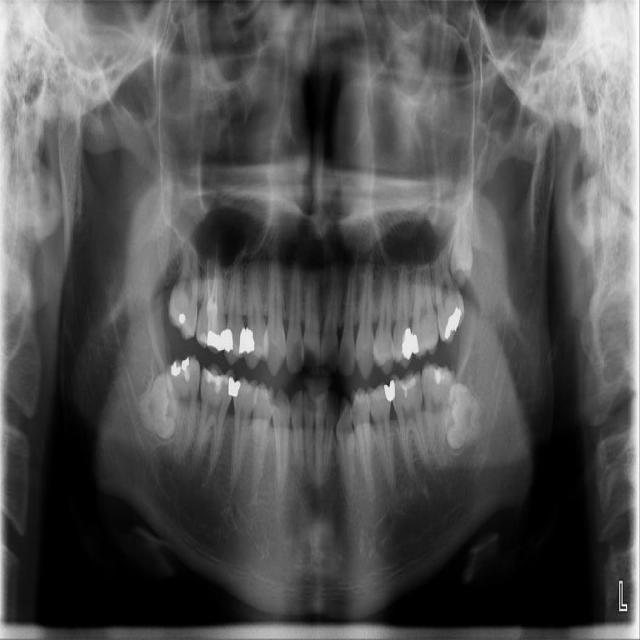Filling: (389, 370, 423, 408), (197, 311, 226, 350), (223, 323, 246, 367), (204, 367, 235, 399), (441, 301, 463, 340), (169, 357, 197, 384), (422, 365, 452, 385), (245, 324, 258, 359), (400, 326, 413, 357), (173, 311, 188, 333), (411, 329, 423, 354), (233, 380, 243, 398), (382, 383, 391, 403)
Root Canal Treatment: (211, 246, 217, 295), (207, 255, 211, 297), (215, 270, 220, 296)
impacted tooth: (449, 384, 496, 451), (132, 372, 173, 436), (448, 195, 473, 281)
